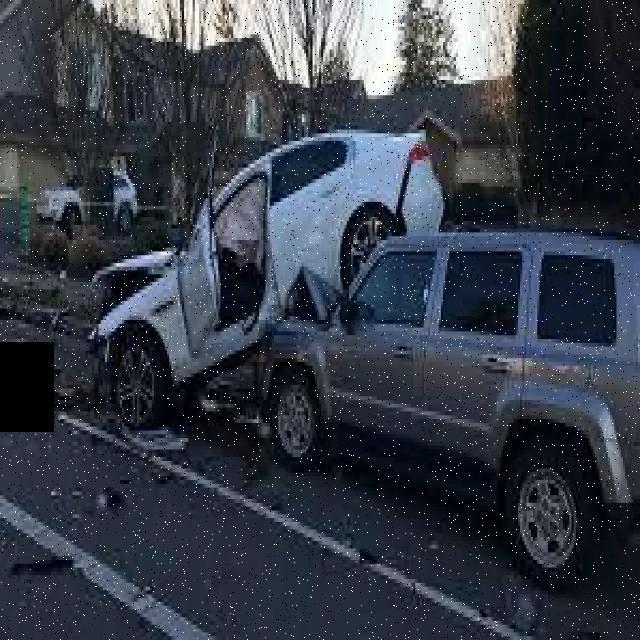multiple_accident: (23, 24, 635, 584)
